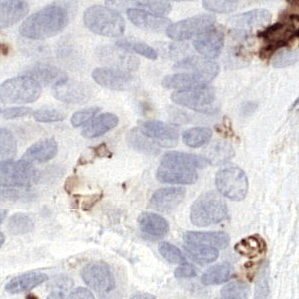Lymphocyte: (234, 232, 268, 281)
